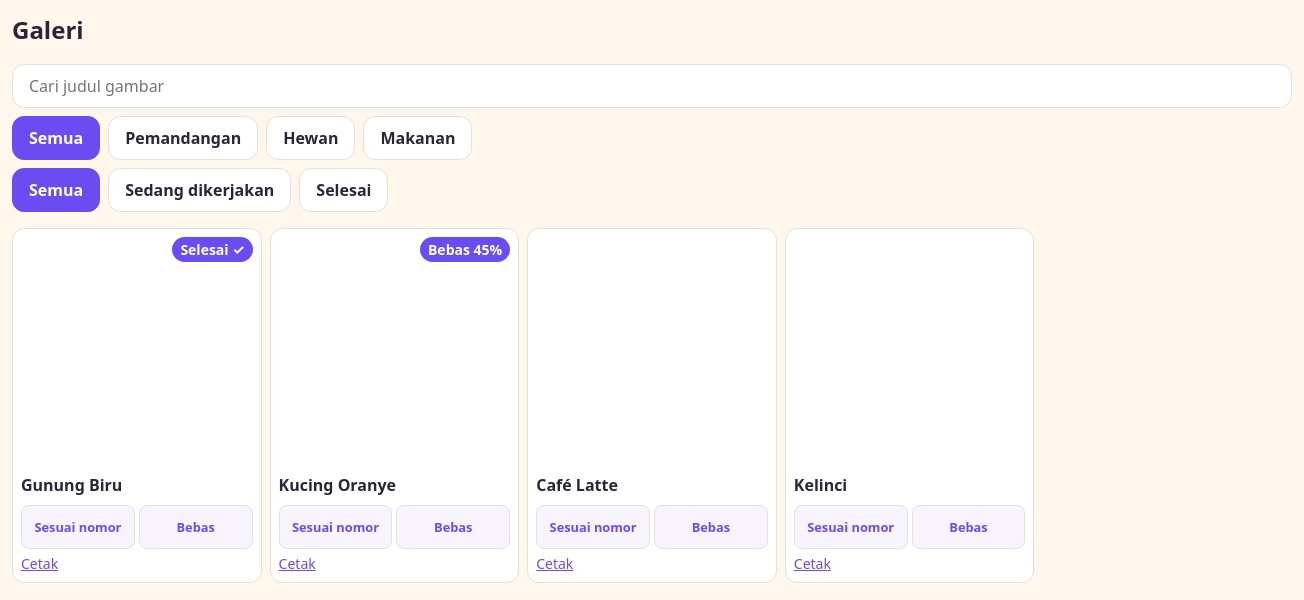
GalleryPage › filters by status tab
The image size is (1304, 600).
Expected: the text "Kelinci" is shown, [794,474,847,496]
Expected: the text "Bebas 45%" is shown, [420,237,510,262]
Click the button "Sedang dikerjakan" at point(200, 190), box [108,168,291,212]
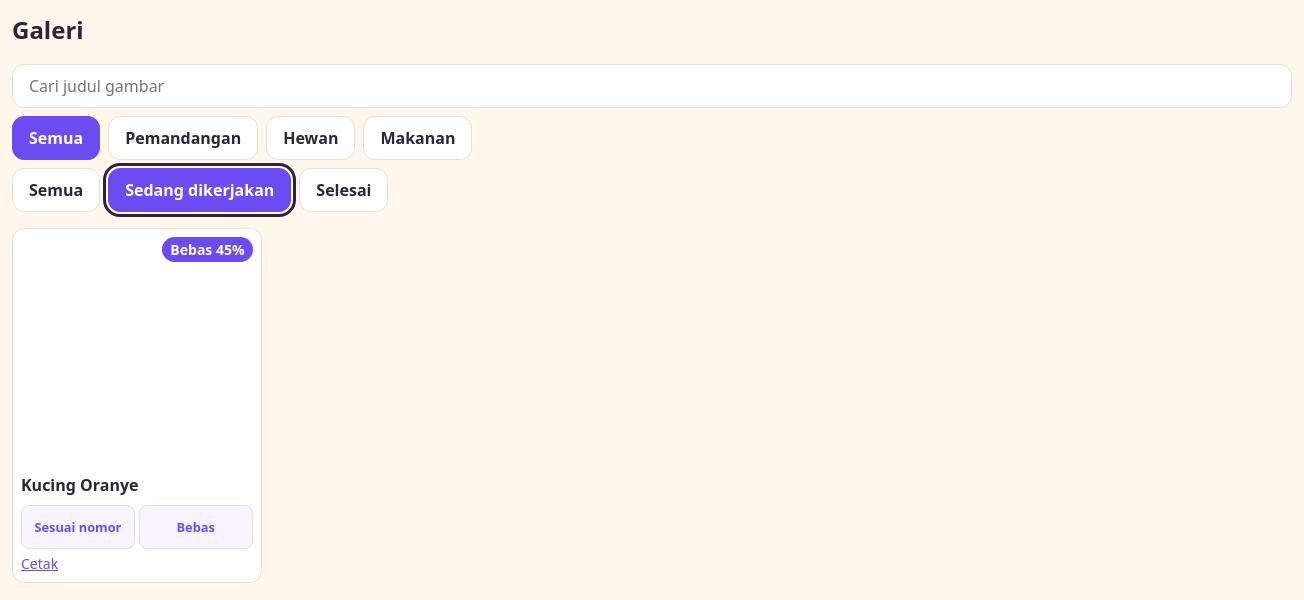
Expected: the number of list items is 1, [12,228,262,583]
Click the button "Selesai" at point(344, 190), box [299,168,388,212]
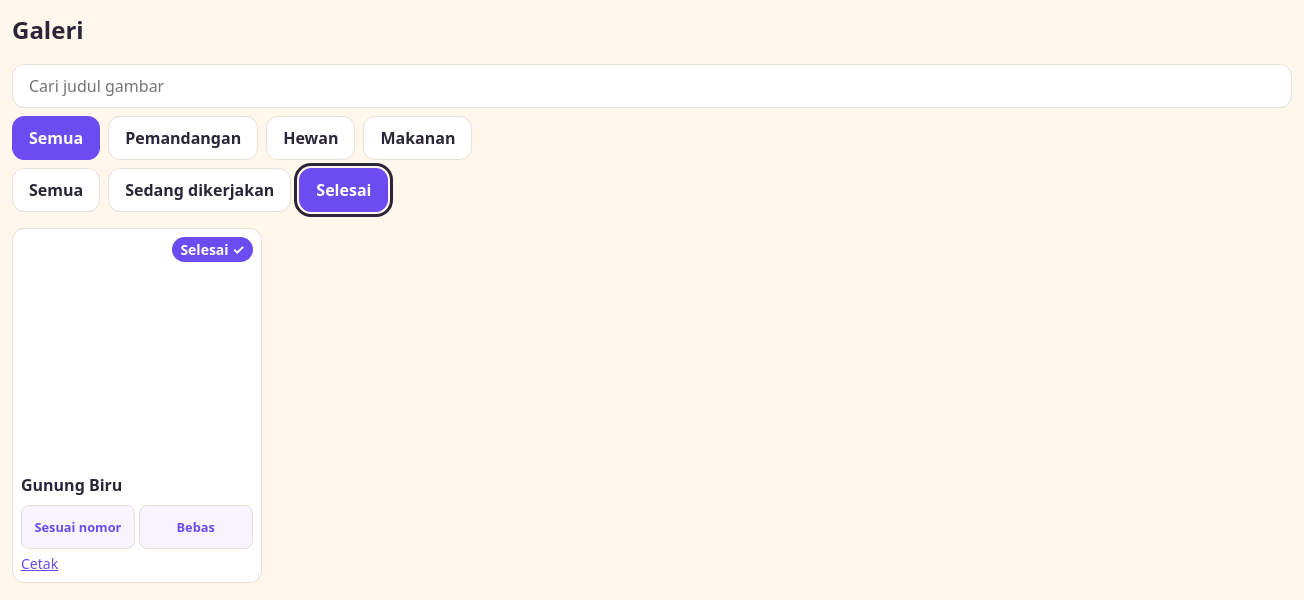
Expected: the text "Gunung Biru" is shown, [21,474,122,496]
Click the 2nd button "Semua" at point(56, 190), box [12,168,100,212]
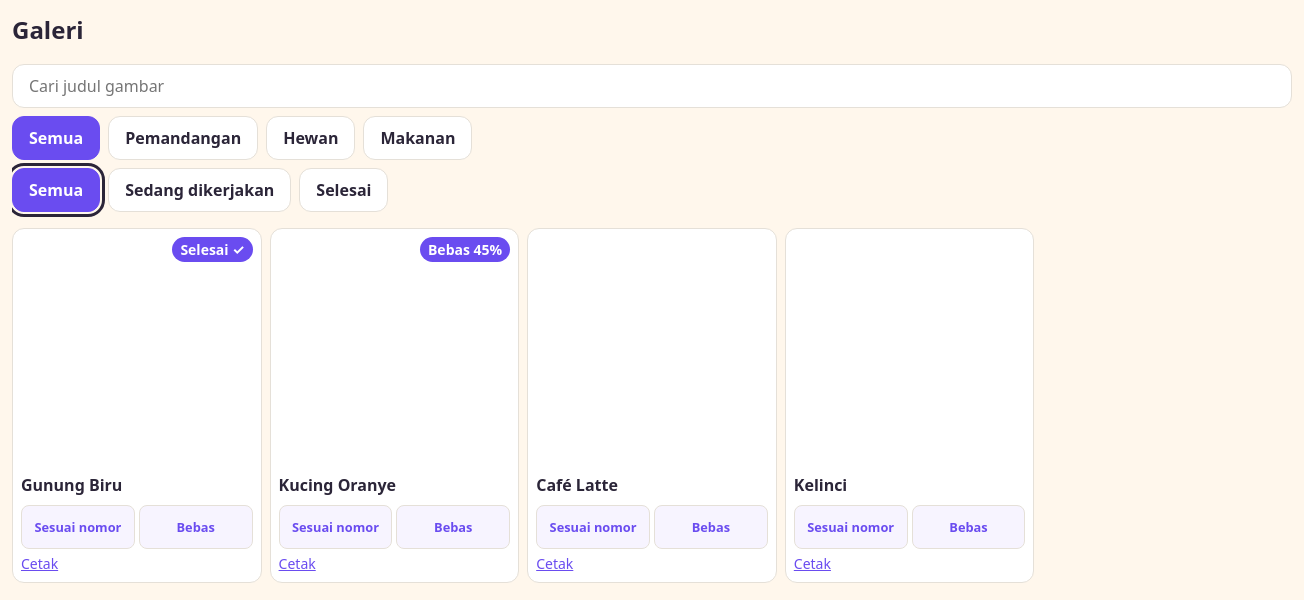
Expected: the number of list items is 4, [12,228,262,583]; [270,228,519,583]; [527,228,777,583]; [785,228,1034,583]
